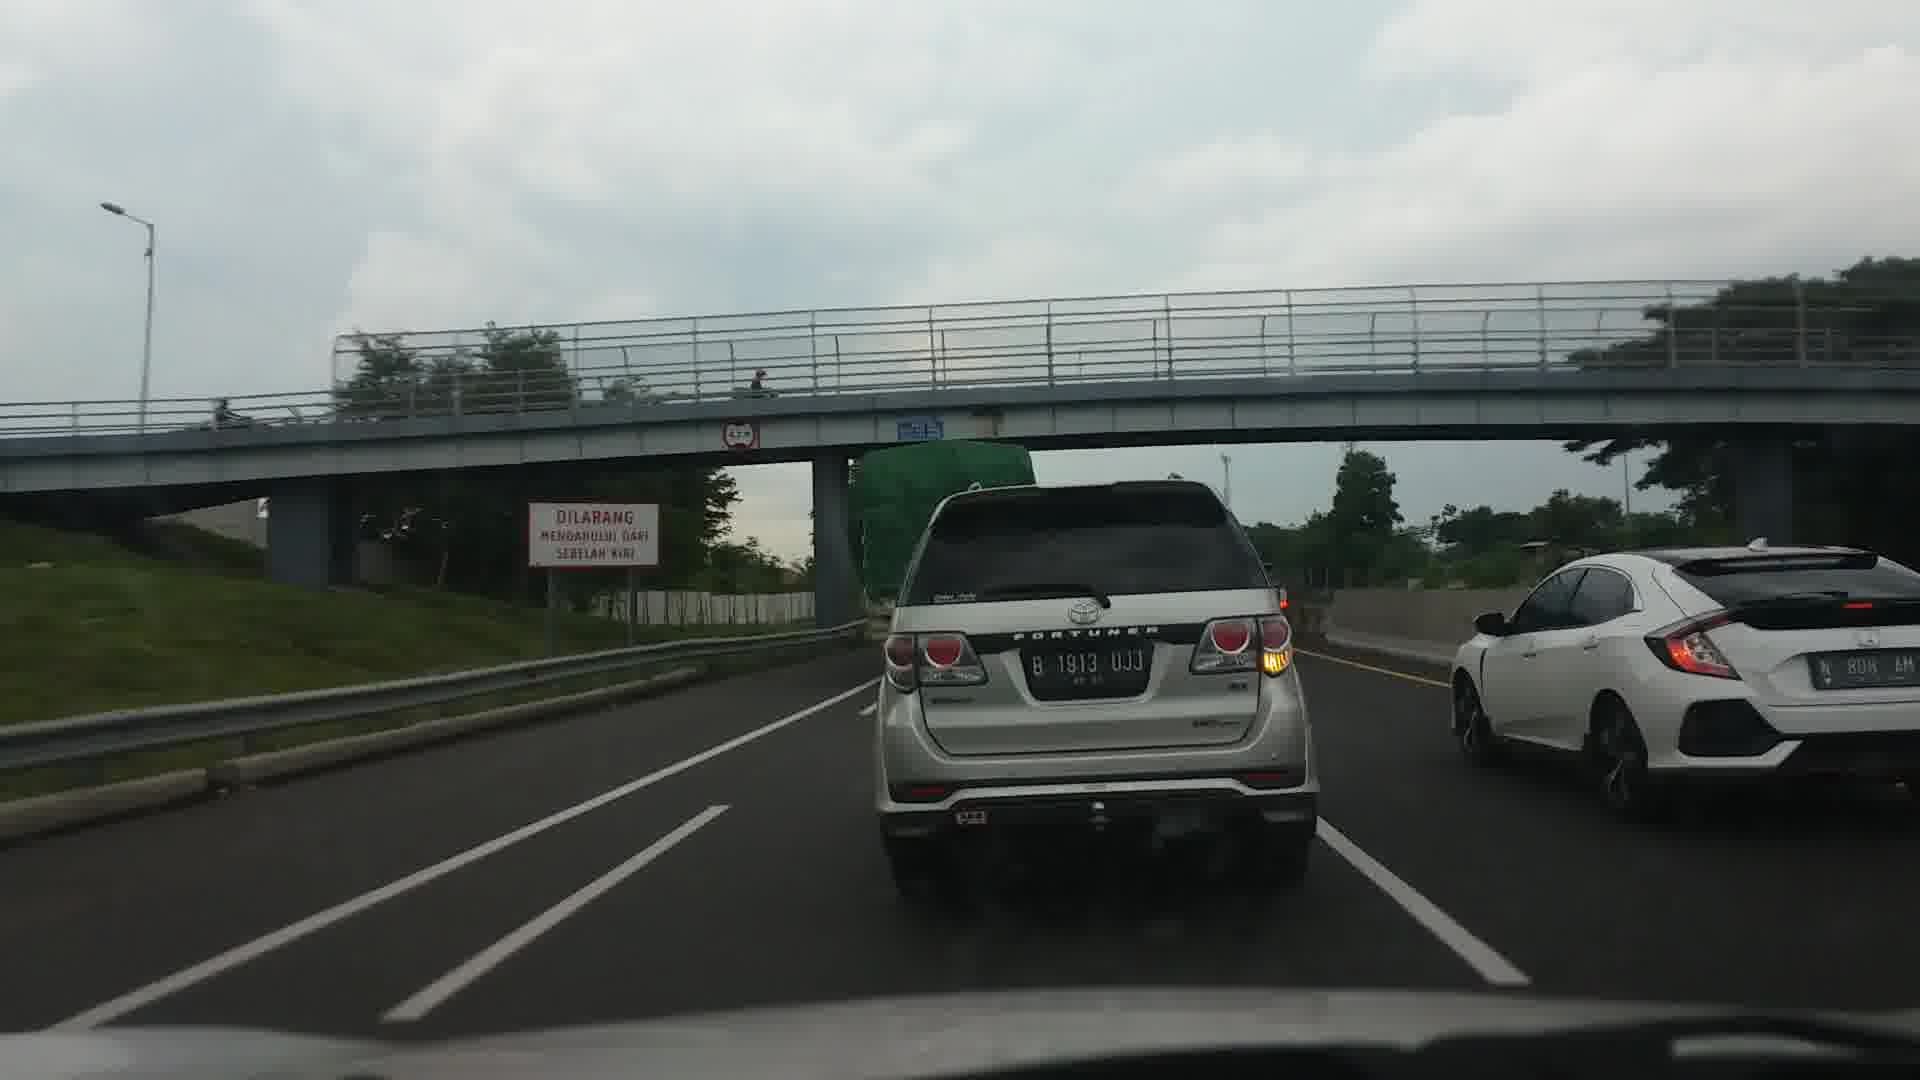plate_positive: (1029, 647, 1146, 687)
